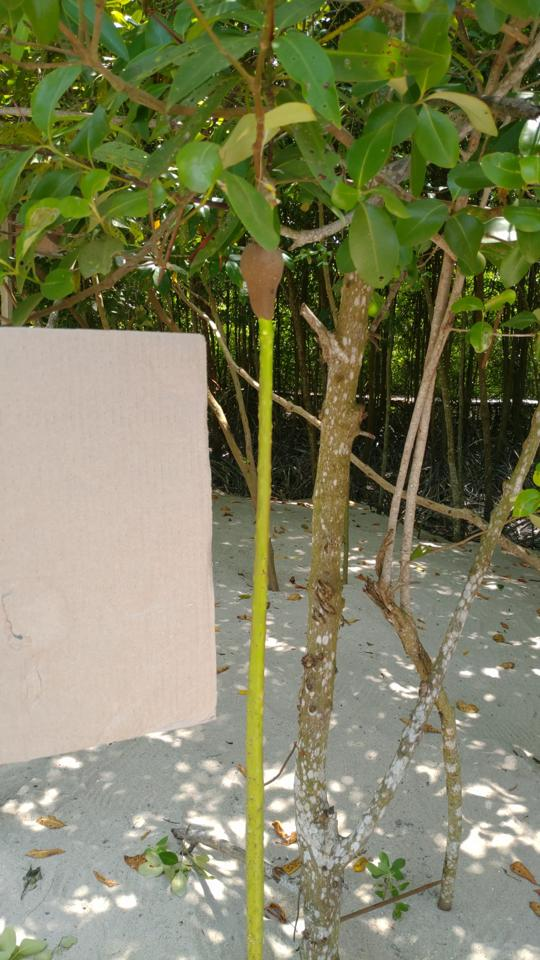mentah: (231, 232, 297, 958)
